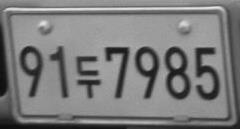1: (46, 45, 72, 98)
5: (194, 46, 220, 101)
7: (104, 45, 130, 98)
8: (164, 45, 191, 100)
9: (134, 45, 159, 99), (19, 44, 44, 97)
두: (75, 55, 102, 98)
